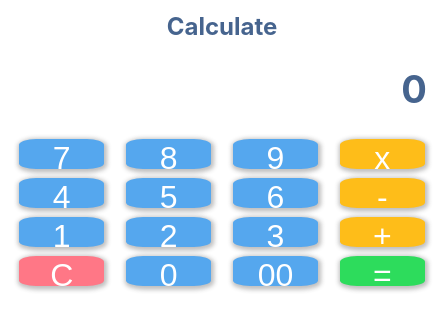
Test: When a number button is pressed › shows the number in the display
Click the button "5". click: (169,193)
box: [126,178,211,208]
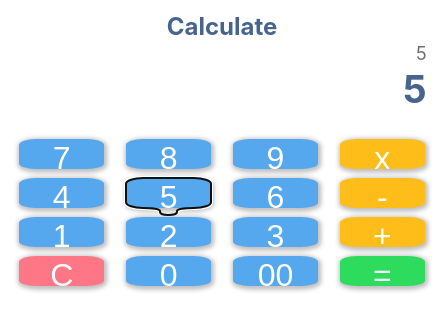
Click the button "2". click: (169,232)
box: [126,217,211,247]
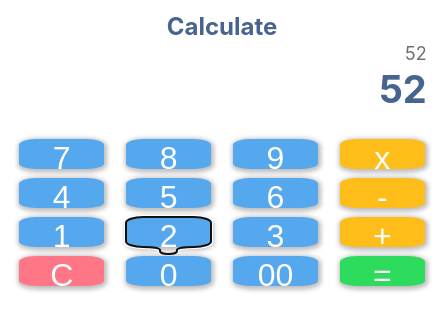
expect the heading "0" reads "52": met, box [379,66,427,112]
